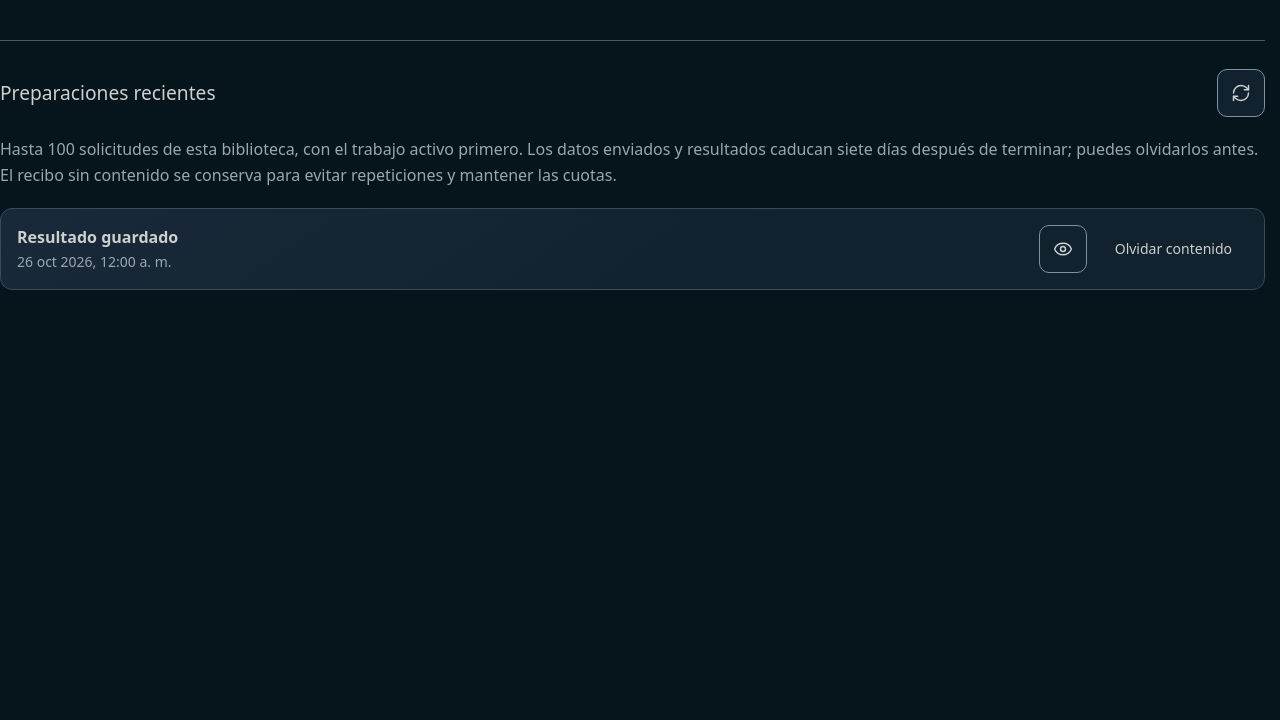
Test: forgets terminal content only after confirmation and retries the same target after a transport failure
Click the button with aria-label "Olvidar contenido de": click(1173, 249) [1099,225,1248,273]
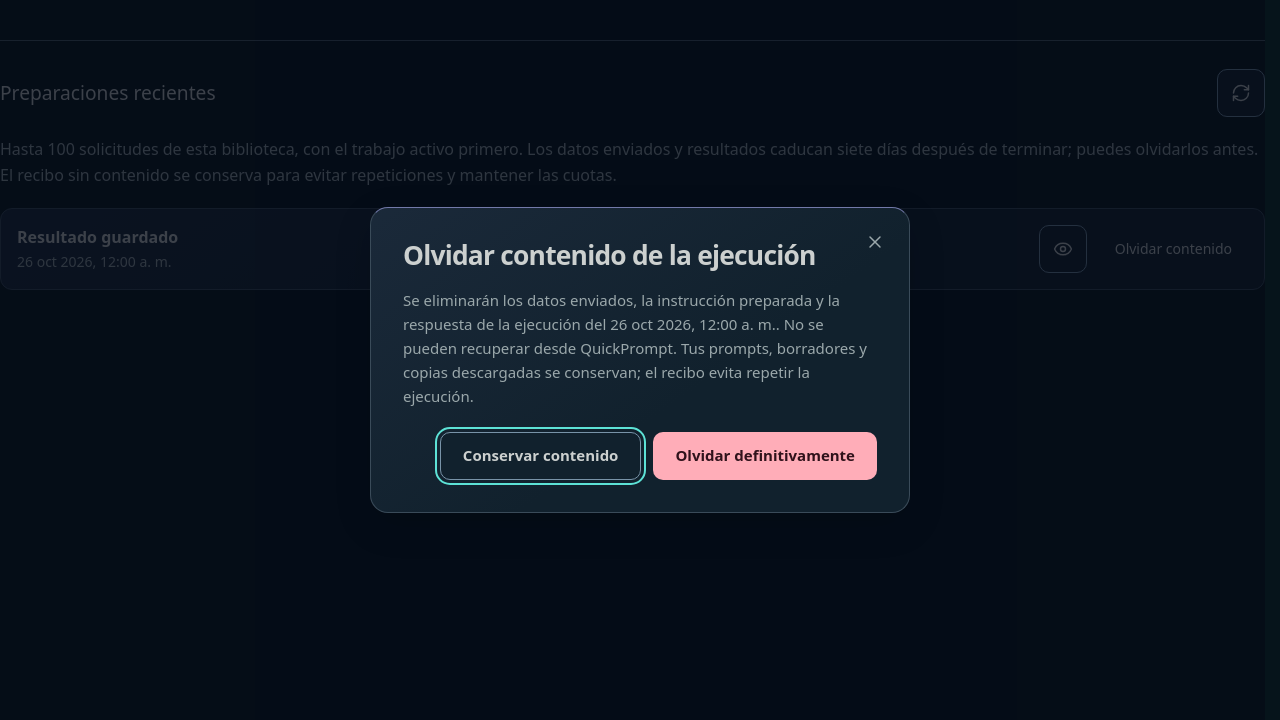
Click the button "Conservar contenido": click(541, 456) [440,432,641,480]
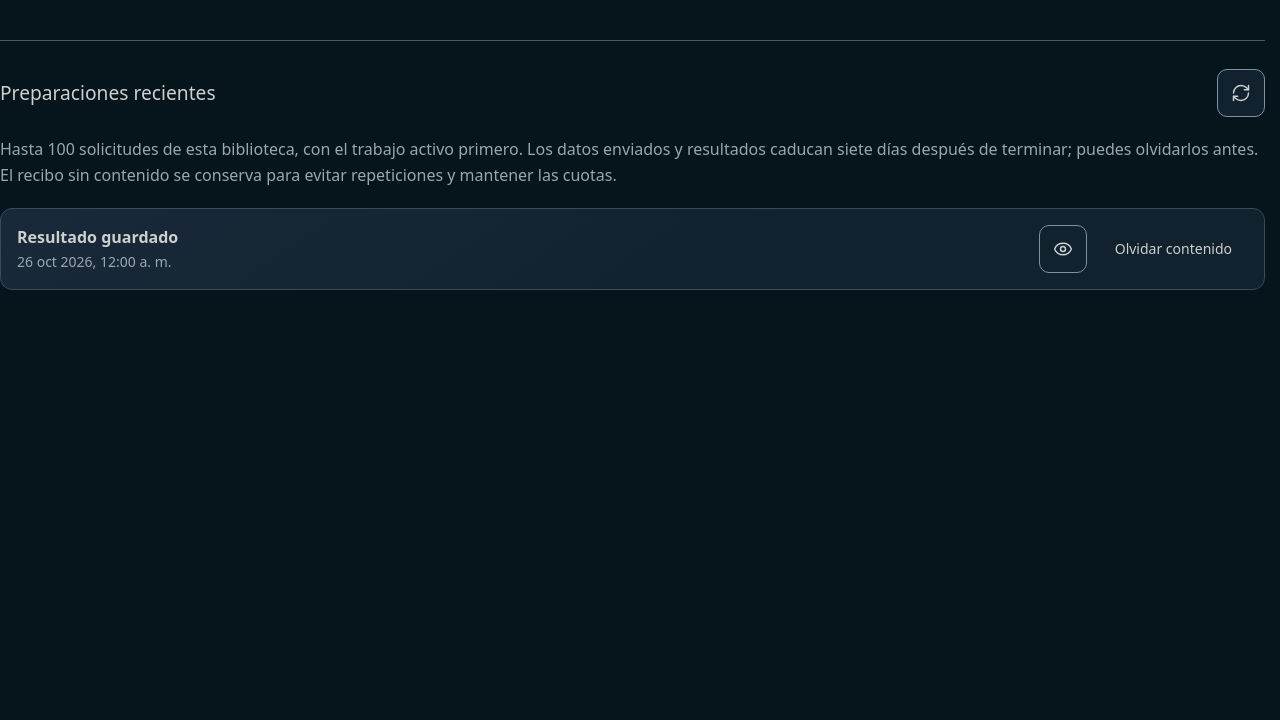
expect the dialog is gone: met
Click the button with aria-label "Olvidar contenido de": click(1173, 249) [1099,225,1248,273]
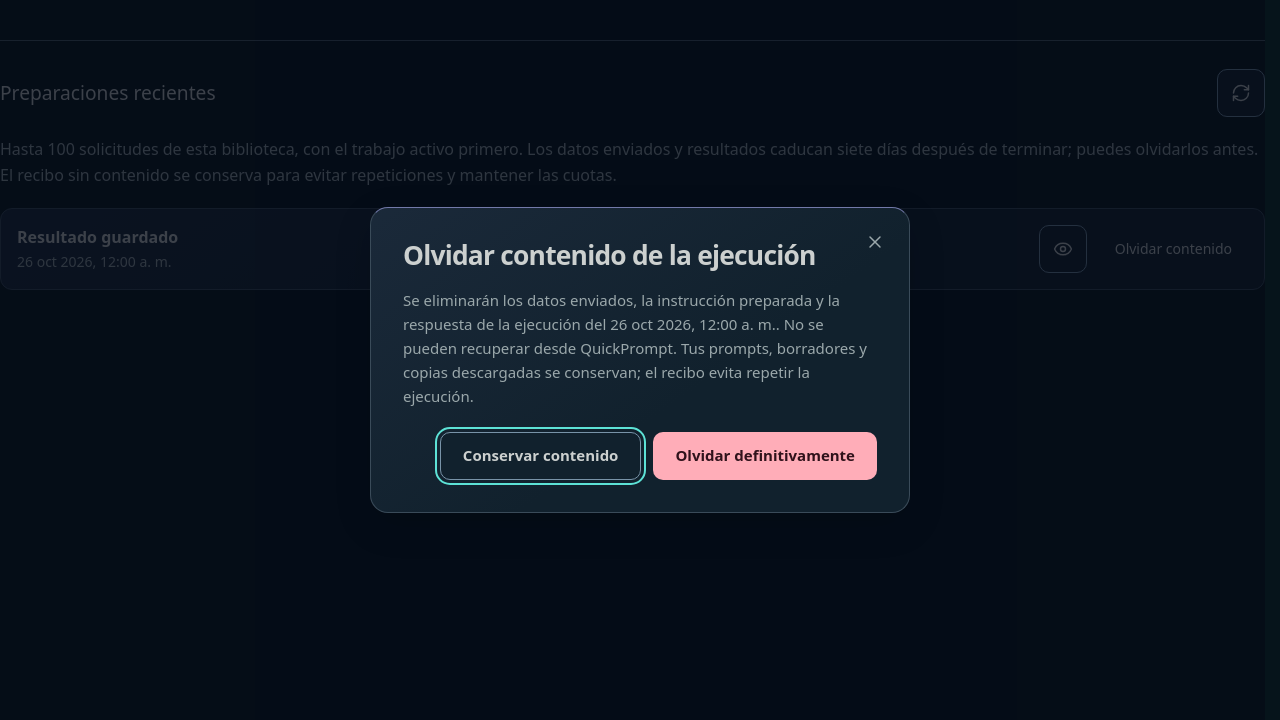
Click the button "Olvidar definitivamente": click(765, 456) [653,432,877,480]
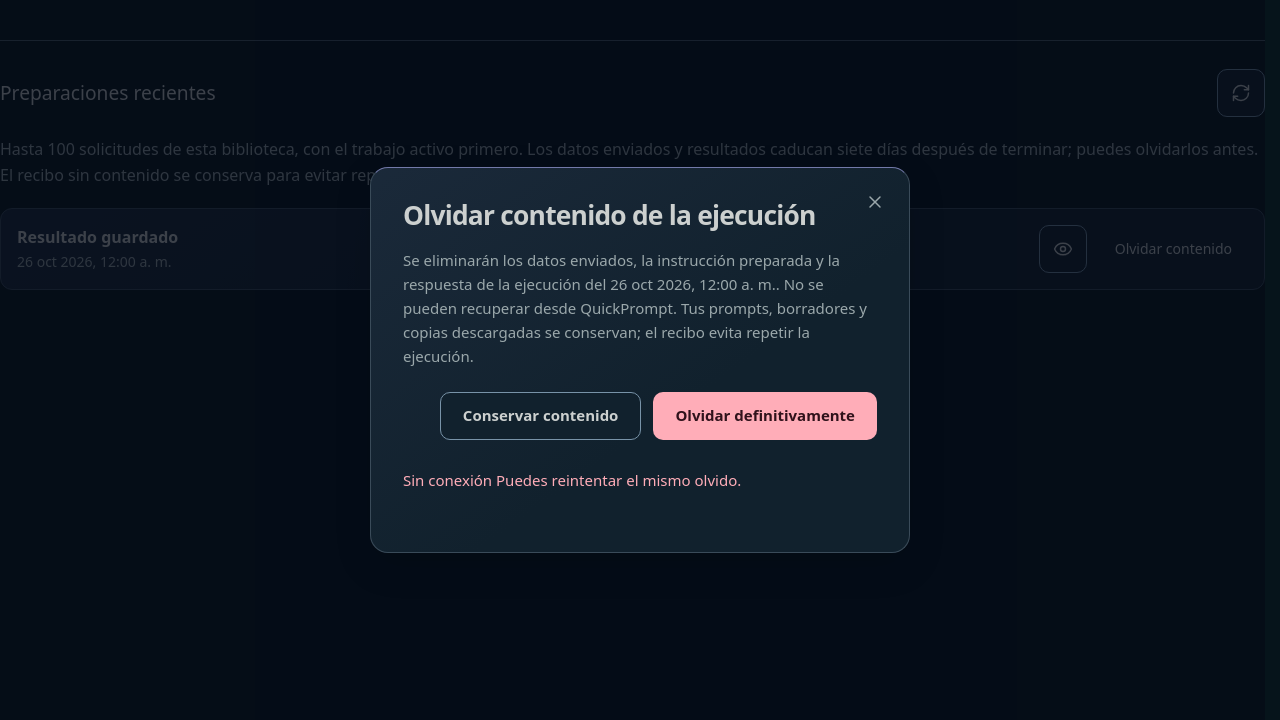
expect the message "Sin conexión Puedes reintentar el mismo olvido." is shown: met, box [403,470,741,490]
Click the button "Olvidar definitivamente": click(765, 416) [653,392,877,440]
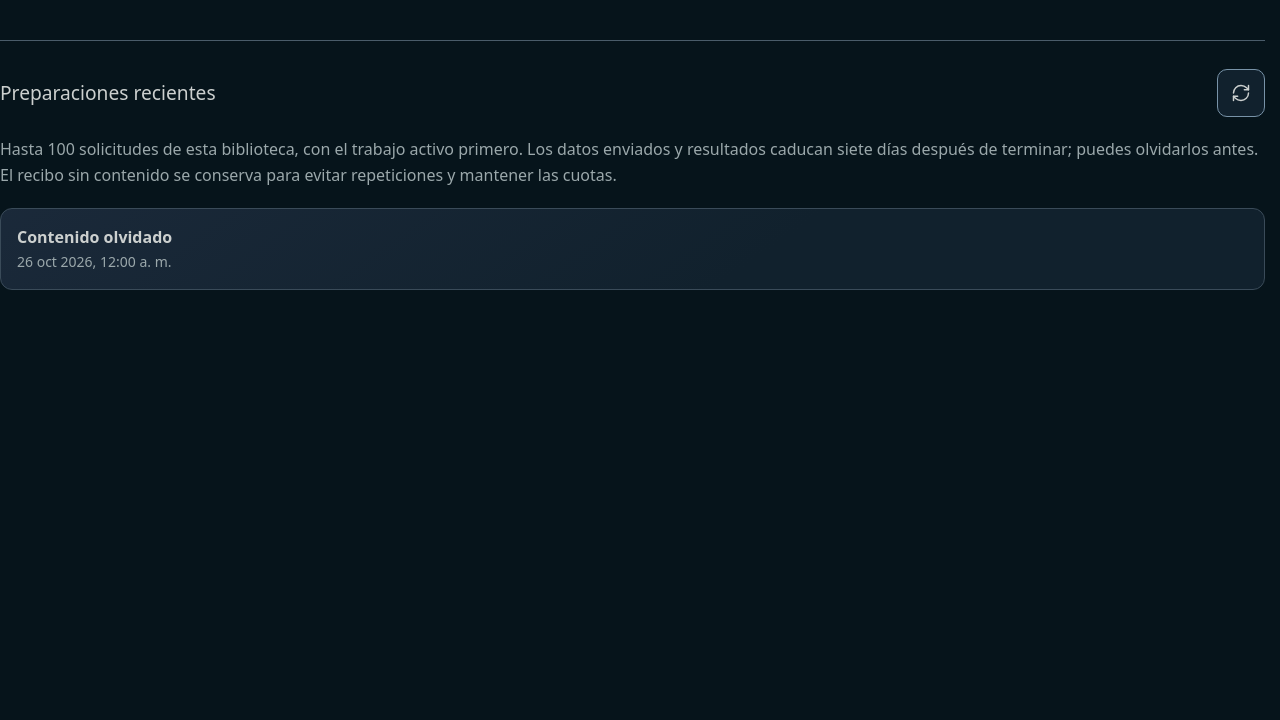
expect the text "Contenido olvidado" is shown: met, box [17,226,172,248]
expect the heading "Olvidar contenido de" is gone: met
